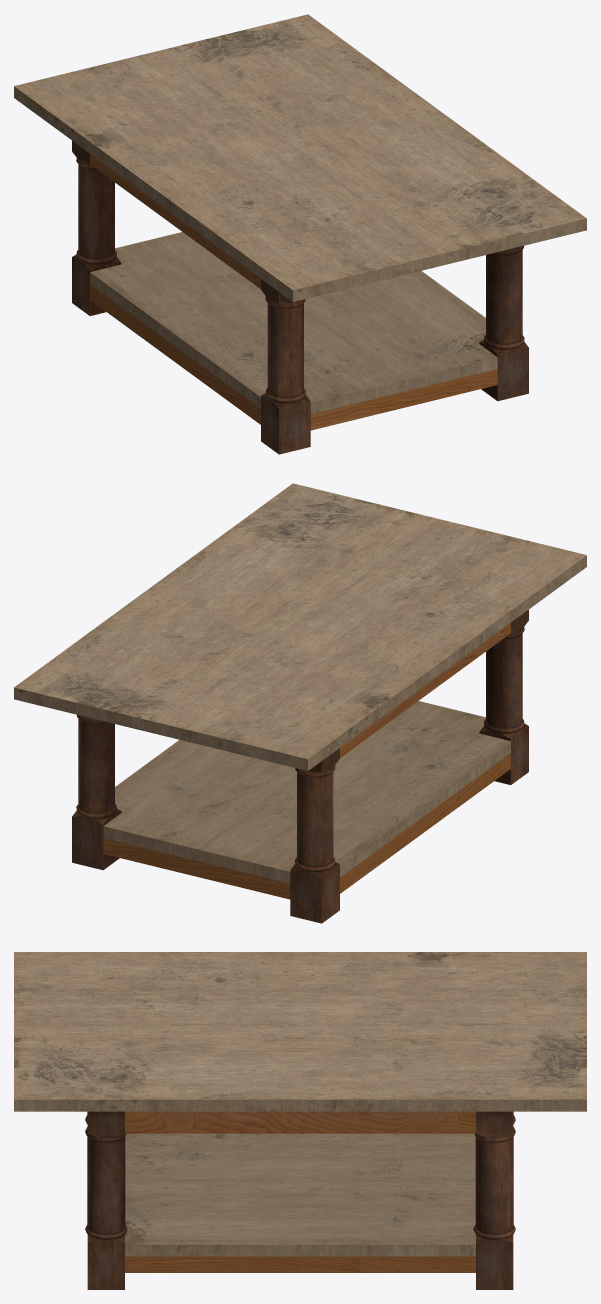
File: table_coffee.glb
The picture shows the model from 3 angles, top to bottom: view 1: azimuth 30°, elevation 25°; view 2: azimuth 150°, elevation 25°; view 3: azimuth 270°, elevation 25°; orthographic projection. The views are drawn at different scales.
Visible parts, largest first — view 1: Object_2; view 2: Object_2; view 3: Object_2.
Boxes of the visible parts, box(x1,y1,x2,y2) form: Object_2: box(14, 14, 586, 454); Object_2: box(14, 483, 586, 923); Object_2: box(14, 952, 586, 1289).
Bounding box in the file's own units: 700 × 446 × 1150.
Materials: 1 (1 with a texture image).
